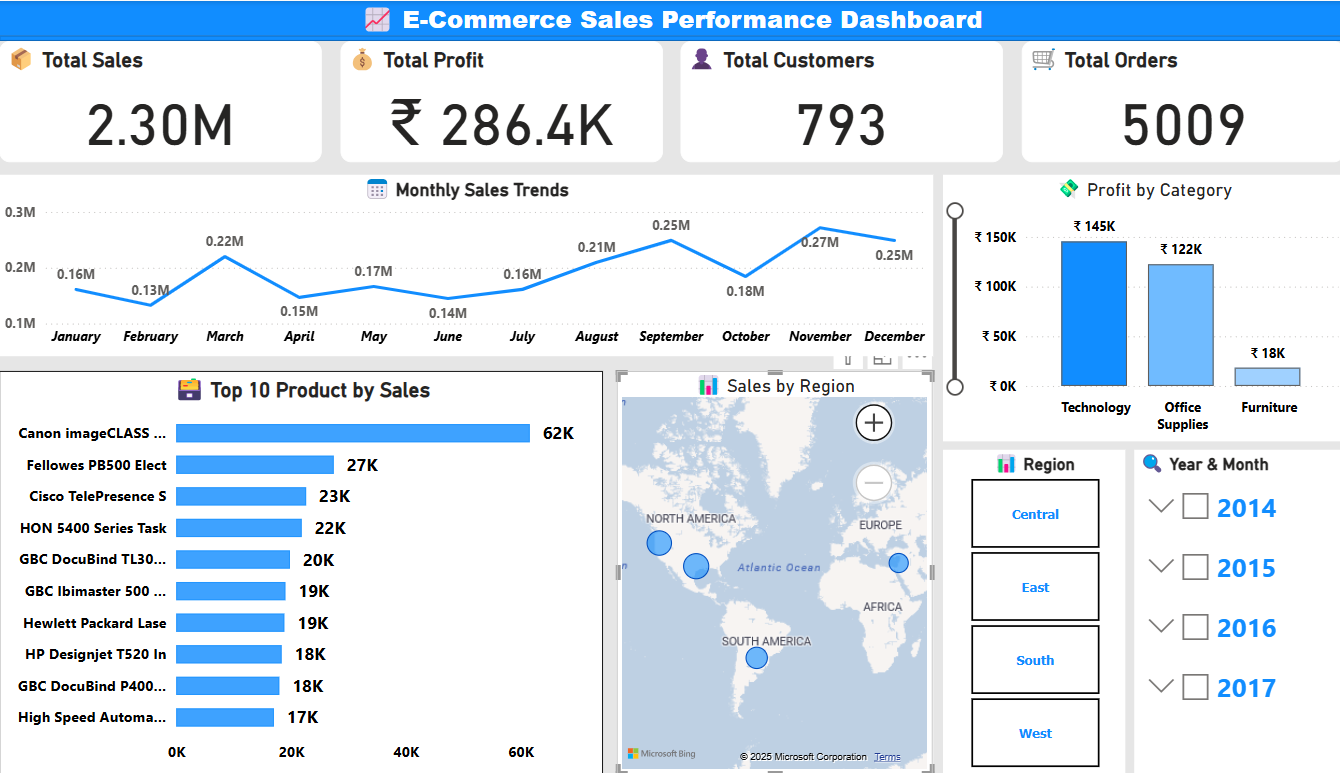

The page's visual inventory and layout, read from the dashboard file:
{"tool":"powerbi","page":{"name":"Page 1","canvas":[1280,720],"ordinal":0},"visuals":[{"type":"card","title":"📦 Total Sales","fields":{"Values":["Sample - Superstore.Total Sales"]},"box":[10.5,37.2,300,112.8],"z":0},{"type":"card","title":"💰 Total Profit","fields":{"Values":["Sample - Superstore.Total Profit"]},"box":[327.9,37.2,300,112.8],"z":1000},{"type":"card","title":"👤 Total Customers","fields":{"Values":["Sample - Superstore.Total Customers"]},"box":[644.2,37.2,300,112.8],"z":2000},{"type":"card","title":"🛒 Total Orders","fields":{"Values":["Sample - Superstore.Total Orders"]},"box":[961.6,37.2,300,112.8],"z":3000},{"type":"barChart","title":"🗃️ Top 10 Product by Sales","fields":{"Y":["Sum(Sample - Superstore.Sales)"],"Category":["Sample - Superstore.ShortProductName"]},"box":[10.5,344.2,561.6,375.6],"z":4000},{"type":"map","title":"📊 Sales by Region","fields":{"Category":["Sample - Superstore.Region"],"Size":["Sum(Sample - Superstore.Sales)"]},"box":[584.9,344.2,294.2,375.6],"z":5000},{"type":"lineChart","title":"📅 Monthly Sales Trends","fields":{"Y":["Sum(Sample - Superstore.Sales)"],"Category":["Sample - Superstore.Order Date.Variation.Date Hierarchy.Month"]},"box":[10.5,161.6,868.6,168.6],"z":6000},{"type":"clusteredColumnChart","title":"💸  Profit by Category","fields":{"Category":["Sample - Superstore.Category"],"Y":["Sample - Superstore.Total Profit"]},"box":[888.4,161.6,373.3,247.7],"z":7000},{"type":"slicer","title":"📊 Region","fields":{"Values":["Sample - Superstore.Region"]},"box":[888.4,417.4,169.8,302.3],"z":8000},{"type":"slicer","title":"🔍 Year & Month","fields":{"Values":["Sample - Superstore.Order Date.Variation.Date Hierarchy.Year","Sample - Superstore.Order Date.Variation.Date Hierarchy.Month"]},"box":[1066.3,417.4,195.3,302.3],"z":9000},{"type":"shape","title":"📈 E-Commerce Sales Performance Dashboard","box":[10.5,0,1251.2,37.2],"z":9001}]}

Visuals, with their boxes in screenshot pixels (x1, y1, x2, y2), scaled from the page's 1280x720 canvas onto the 1340x773 screenshot:
"📦 Total Sales" card: <region>11, 40, 325, 161</region>
"💰 Total Profit" card: <region>343, 40, 657, 161</region>
"👤 Total Customers" card: <region>674, 40, 988, 161</region>
"🛒 Total Orders" card: <region>1007, 40, 1321, 161</region>
"🗃️ Top 10 Product by Sales" barChart: <region>11, 370, 599, 772</region>
"📊 Sales by Region" map: <region>612, 370, 920, 772</region>
"📅 Monthly Sales Trends" lineChart: <region>11, 173, 920, 355</region>
"💸  Profit by Category" clusteredColumnChart: <region>930, 173, 1321, 439</region>
"📊 Region" slicer: <region>930, 448, 1108, 772</region>
"🔍 Year & Month" slicer: <region>1116, 448, 1321, 772</region>
"📈 E-Commerce Sales Performance Dashboard" shape: <region>11, 0, 1321, 40</region>
